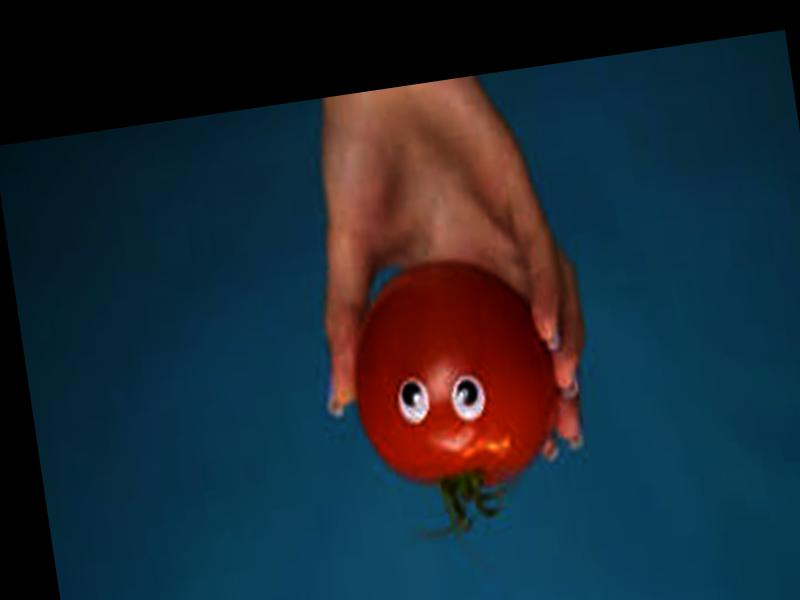Tomato: (336, 246, 571, 505)
